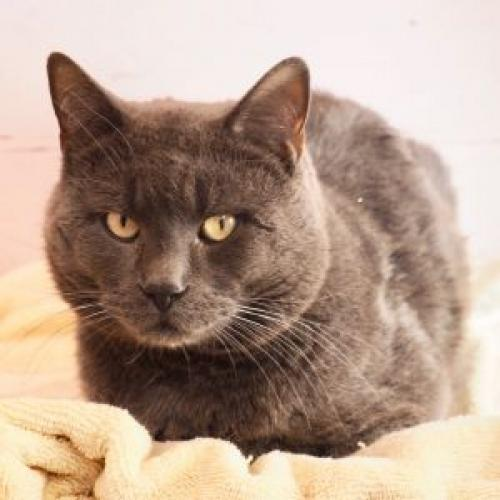rblue: (24, 27, 344, 391)
